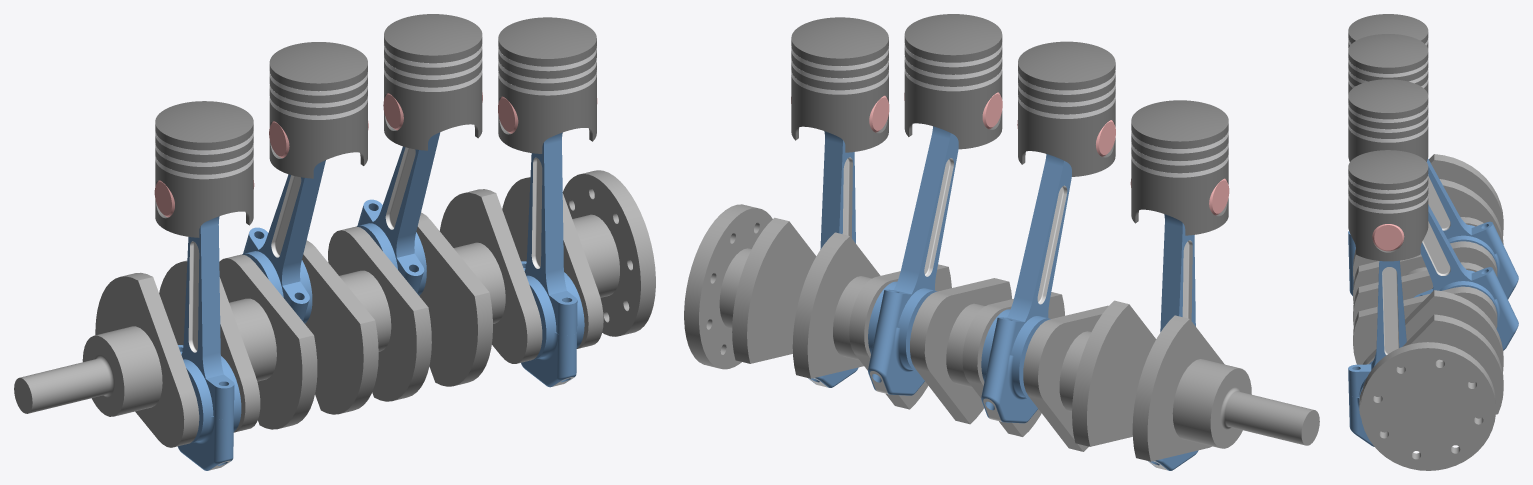
The picture shows the model from 3 angles, left to right: view 1: azimuth 30°, elevation 25°; view 2: azimuth 150°, elevation 25°; view 3: azimuth 270°, elevation 25°; orthographic projection. The views are drawn at different scales.
Parts seen in each view (by area): view 1: 03_crank-2, 01_piston-2, 01_piston-1, 01_piston-3, 01_piston-4, 04_con_rod-2, 04_con_rod-1, 04_con_rod-3, 04_con_rod-4, 05_con_rod_cap-2, 05_con_rod_cap-1; view 2: 03_crank-2, 01_piston-4, 01_piston-2, 01_piston-3, 01_piston-1, 04_con_rod-3, 04_con_rod-4, 04_con_rod-1, 04_con_rod-2, 05_con_rod_cap-3, 05_con_rod_cap-4; view 3: 03_crank-2, 01_piston-2, 01_piston-4, 01_piston-3, 04_con_rod-2, 04_con_rod-4, 04_con_rod-3, 01_piston-1, 05_con_rod_cap-4, 05_con_rod_cap-3, 06_piston_pin-2, 05_con_rod_cap-2 (+7 smaller).
Boxes of the visible parts, box(x1,y1,x2,y2) form: 03_crank-2: box(14, 170, 655, 447); 01_piston-2: box(498, 17, 596, 153); 01_piston-1: box(155, 101, 253, 237); 01_piston-3: box(269, 42, 367, 178); 01_piston-4: box(384, 14, 482, 150); 04_con_rod-2: box(521, 132, 584, 335); 04_con_rod-1: box(178, 216, 241, 419); 04_con_rod-3: box(242, 160, 325, 321); 04_con_rod-4: box(356, 132, 440, 293); 05_con_rod_cap-2: box(521, 325, 584, 387); 05_con_rod_cap-1: box(177, 409, 241, 470); 03_crank-2: box(684, 204, 1319, 461); 01_piston-4: box(904, 14, 1002, 149); 01_piston-2: box(791, 17, 888, 152); 01_piston-3: box(1018, 41, 1115, 176); 01_piston-1: box(1131, 100, 1228, 235); 04_con_rod-3: box(983, 154, 1071, 357); 04_con_rod-4: box(870, 126, 958, 330); 04_con_rod-1: box(1160, 214, 1195, 332); 04_con_rod-2: box(820, 131, 855, 249); 05_con_rod_cap-3: box(981, 348, 1037, 423); 05_con_rod_cap-4: box(868, 321, 924, 395); 03_crank-2: box(1353, 154, 1503, 470); 01_piston-2: box(1348, 150, 1428, 261); 01_piston-4: box(1348, 79, 1428, 161); 01_piston-3: box(1348, 34, 1428, 94); 04_con_rod-2: box(1348, 260, 1406, 398); 04_con_rod-4: box(1413, 204, 1503, 303); 04_con_rod-3: box(1427, 158, 1503, 258); 01_piston-1: box(1348, 14, 1428, 47); 05_con_rod_cap-4: box(1494, 292, 1518, 350); 05_con_rod_cap-3: box(1494, 247, 1518, 299); 06_piston_pin-2: box(1372, 224, 1404, 251); 05_con_rod_cap-2: box(1349, 395, 1374, 446).
Bounding box in the file's own units: 0.589 × 0.3594 × 0.1813.
